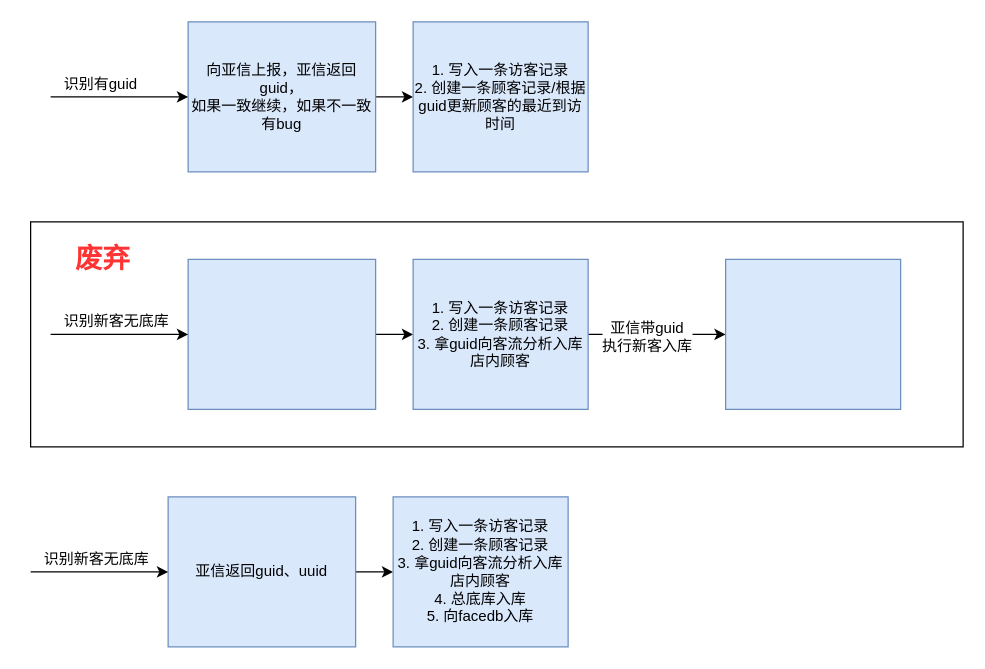
The diagram is 985 pixels wide and 669 high, and some of its shapes have lost their labels. Here are the shapes that lost their labels. From the top down, the box of each, then its label:
(187, 258, 376, 409): 亚信返回guid
(724, 258, 901, 409): 1. guid要一致， 入库流程和普通入库一样 2. 总底库入库 3. 向facedb入库
